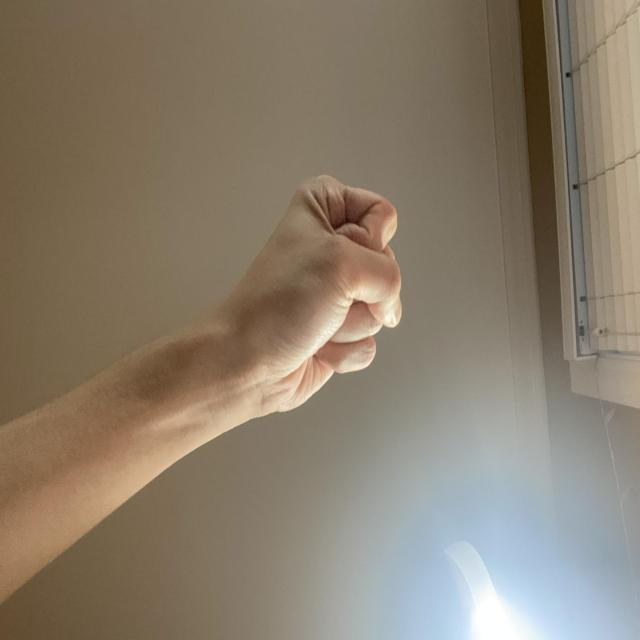S: (282, 308, 479, 546)
